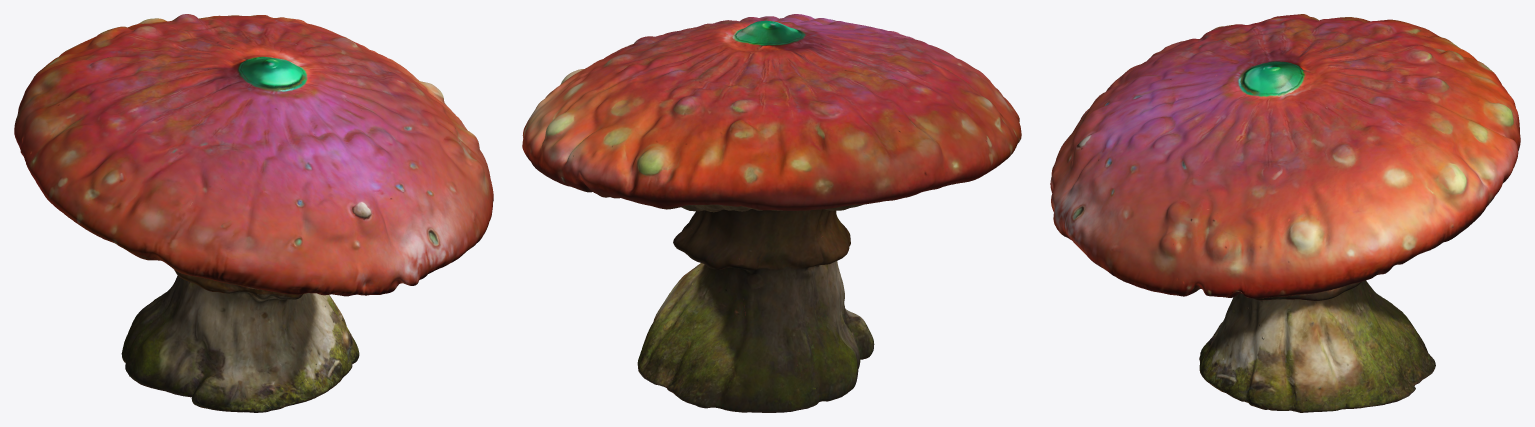
Rendered from Meshy_AI_The_Toadstool_Targe_–_0301033746_texture.glb.
The picture shows the model from 3 angles, left to right: view 1: azimuth 30°, elevation 25°; view 2: azimuth 150°, elevation 25°; view 3: azimuth 270°, elevation 25°; orthographic projection. The views are drawn at different scales.
Parts seen in each view (by area): view 1: Mesh_0.003; view 2: Mesh_0.003; view 3: Mesh_0.003.
Part boxes in pixels (left/top/right/bottom): Mesh_0.003: left=14, top=14, right=493, bottom=412; Mesh_0.003: left=522, top=14, right=1021, bottom=412; Mesh_0.003: left=1050, top=14, right=1520, bottom=412.
Bounding box in the file's own units: 1.4 × 1 × 1.39.
1 material, 1 textured.
